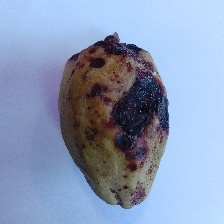guava: (25, 0, 193, 186)
